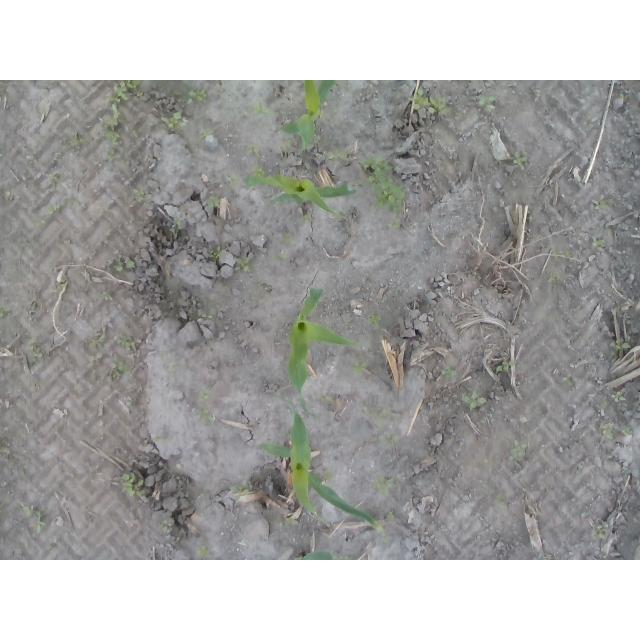Maize: (256, 398, 384, 534), (286, 287, 361, 421), (244, 174, 357, 221), (279, 81, 336, 155), (300, 549, 336, 560)
Weeds: (360, 155, 409, 213), (99, 98, 123, 162), (409, 87, 448, 114), (18, 504, 46, 532), (111, 80, 145, 102), (118, 472, 144, 498), (462, 392, 488, 417), (367, 408, 393, 433), (23, 337, 41, 369), (228, 479, 251, 503), (183, 86, 210, 106), (161, 111, 189, 129), (110, 359, 130, 381), (375, 478, 395, 499), (159, 351, 177, 374), (111, 258, 136, 273), (610, 336, 633, 352), (512, 439, 528, 462), (248, 101, 272, 116), (194, 408, 216, 424), (380, 432, 401, 448), (512, 151, 529, 170), (112, 336, 136, 349), (167, 216, 185, 233), (351, 360, 369, 377), (591, 524, 609, 540), (602, 422, 617, 441), (233, 258, 251, 273), (160, 512, 173, 532), (367, 313, 384, 328), (556, 243, 573, 258), (478, 95, 496, 109), (494, 359, 512, 373), (583, 113, 598, 128), (561, 372, 575, 388), (196, 544, 209, 561), (94, 335, 105, 354), (96, 290, 113, 302), (209, 246, 221, 263), (32, 214, 49, 226), (591, 199, 609, 210), (207, 195, 221, 209), (385, 219, 402, 230), (439, 367, 457, 377), (271, 251, 289, 261), (47, 171, 62, 183), (0, 304, 10, 321), (64, 197, 81, 207), (612, 391, 627, 402), (592, 238, 608, 248), (327, 152, 345, 160), (281, 517, 299, 525), (48, 204, 61, 215), (133, 191, 145, 202), (131, 127, 143, 138), (254, 167, 267, 177), (319, 394, 333, 403), (247, 143, 258, 154), (599, 399, 610, 410), (199, 388, 209, 400), (547, 272, 557, 284), (429, 246, 439, 258), (71, 135, 82, 145), (322, 472, 334, 481), (339, 554, 356, 560), (283, 231, 293, 241), (495, 495, 504, 506), (198, 131, 208, 140), (623, 425, 632, 435), (387, 512, 397, 521), (302, 213, 310, 223), (312, 415, 320, 425), (201, 314, 214, 320), (625, 93, 636, 100), (231, 175, 241, 182), (287, 135, 294, 145), (1, 439, 8, 449), (320, 516, 329, 523), (399, 383, 405, 393), (127, 401, 134, 408), (156, 435, 161, 442)
